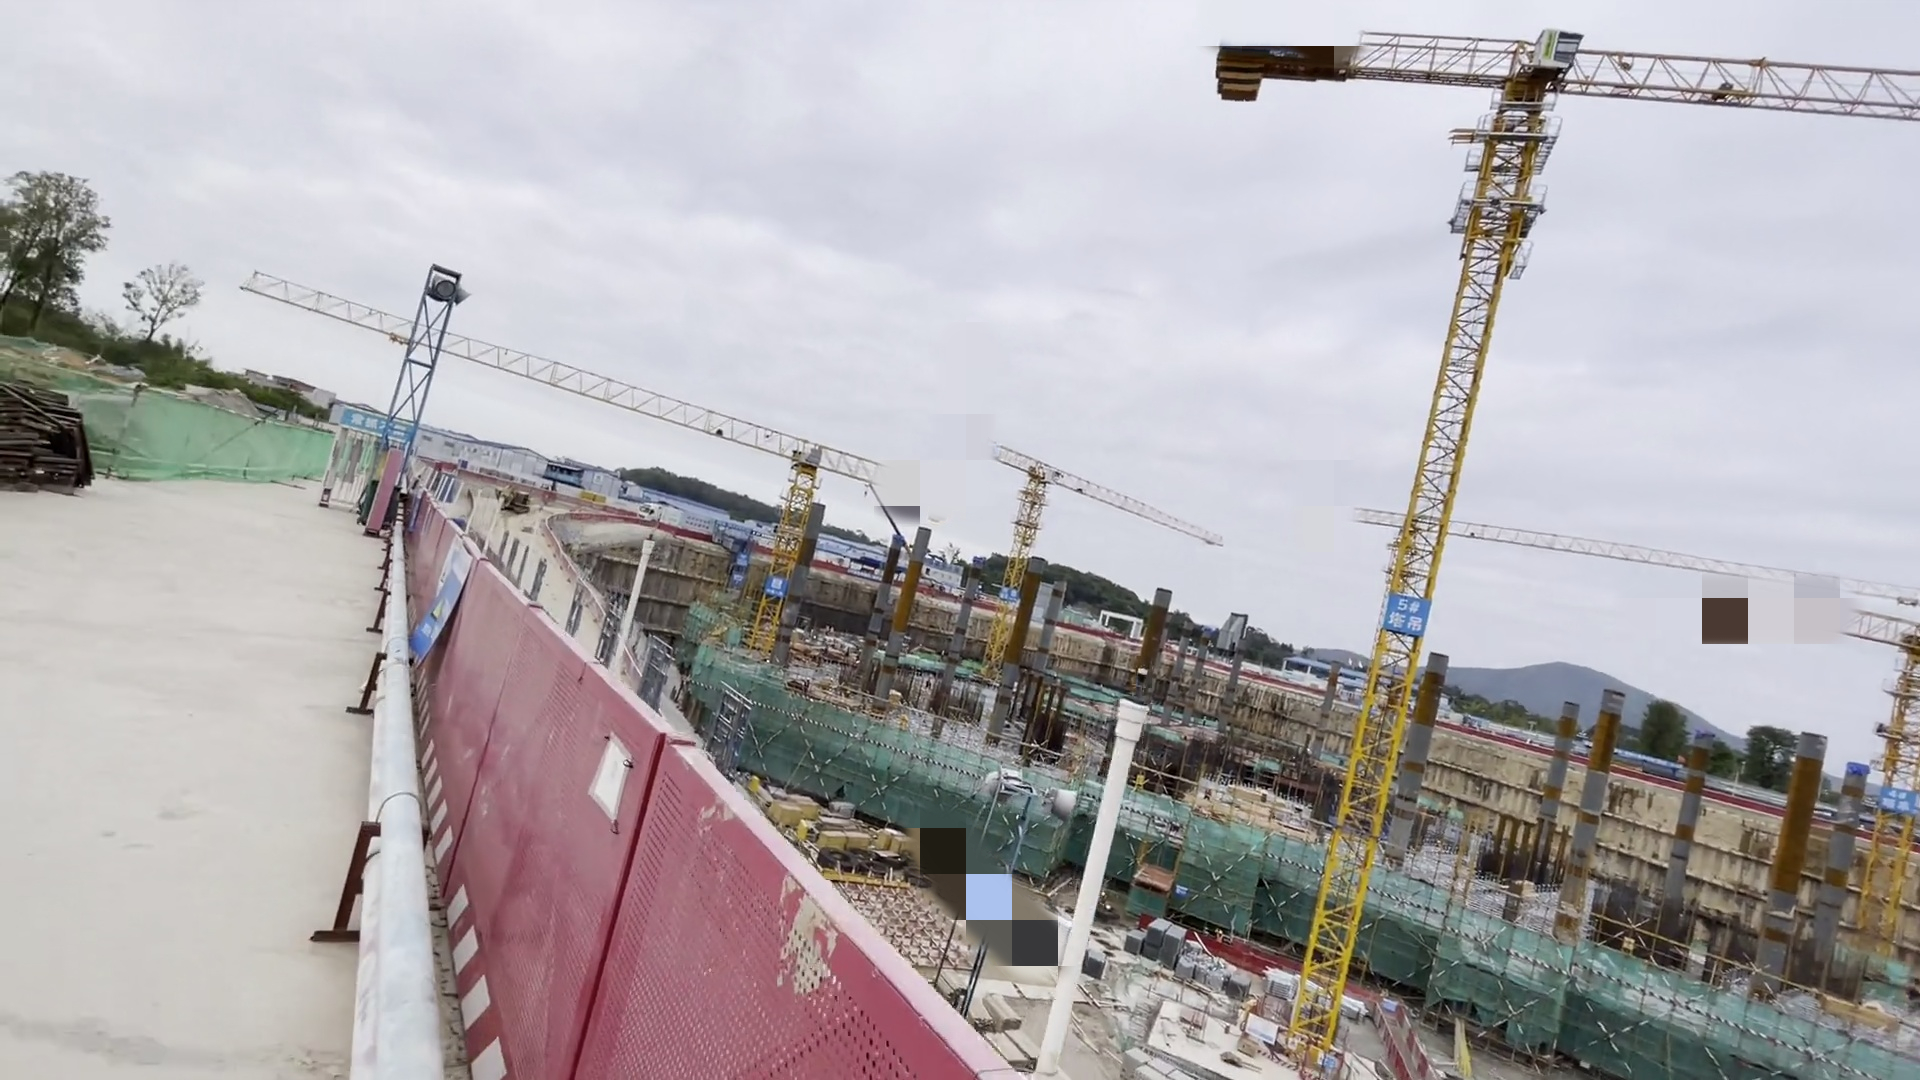fence: (306, 451, 1017, 1072), (1332, 959, 1461, 1080), (636, 489, 680, 537)
slogan: (410, 542, 483, 659), (338, 406, 438, 456)
